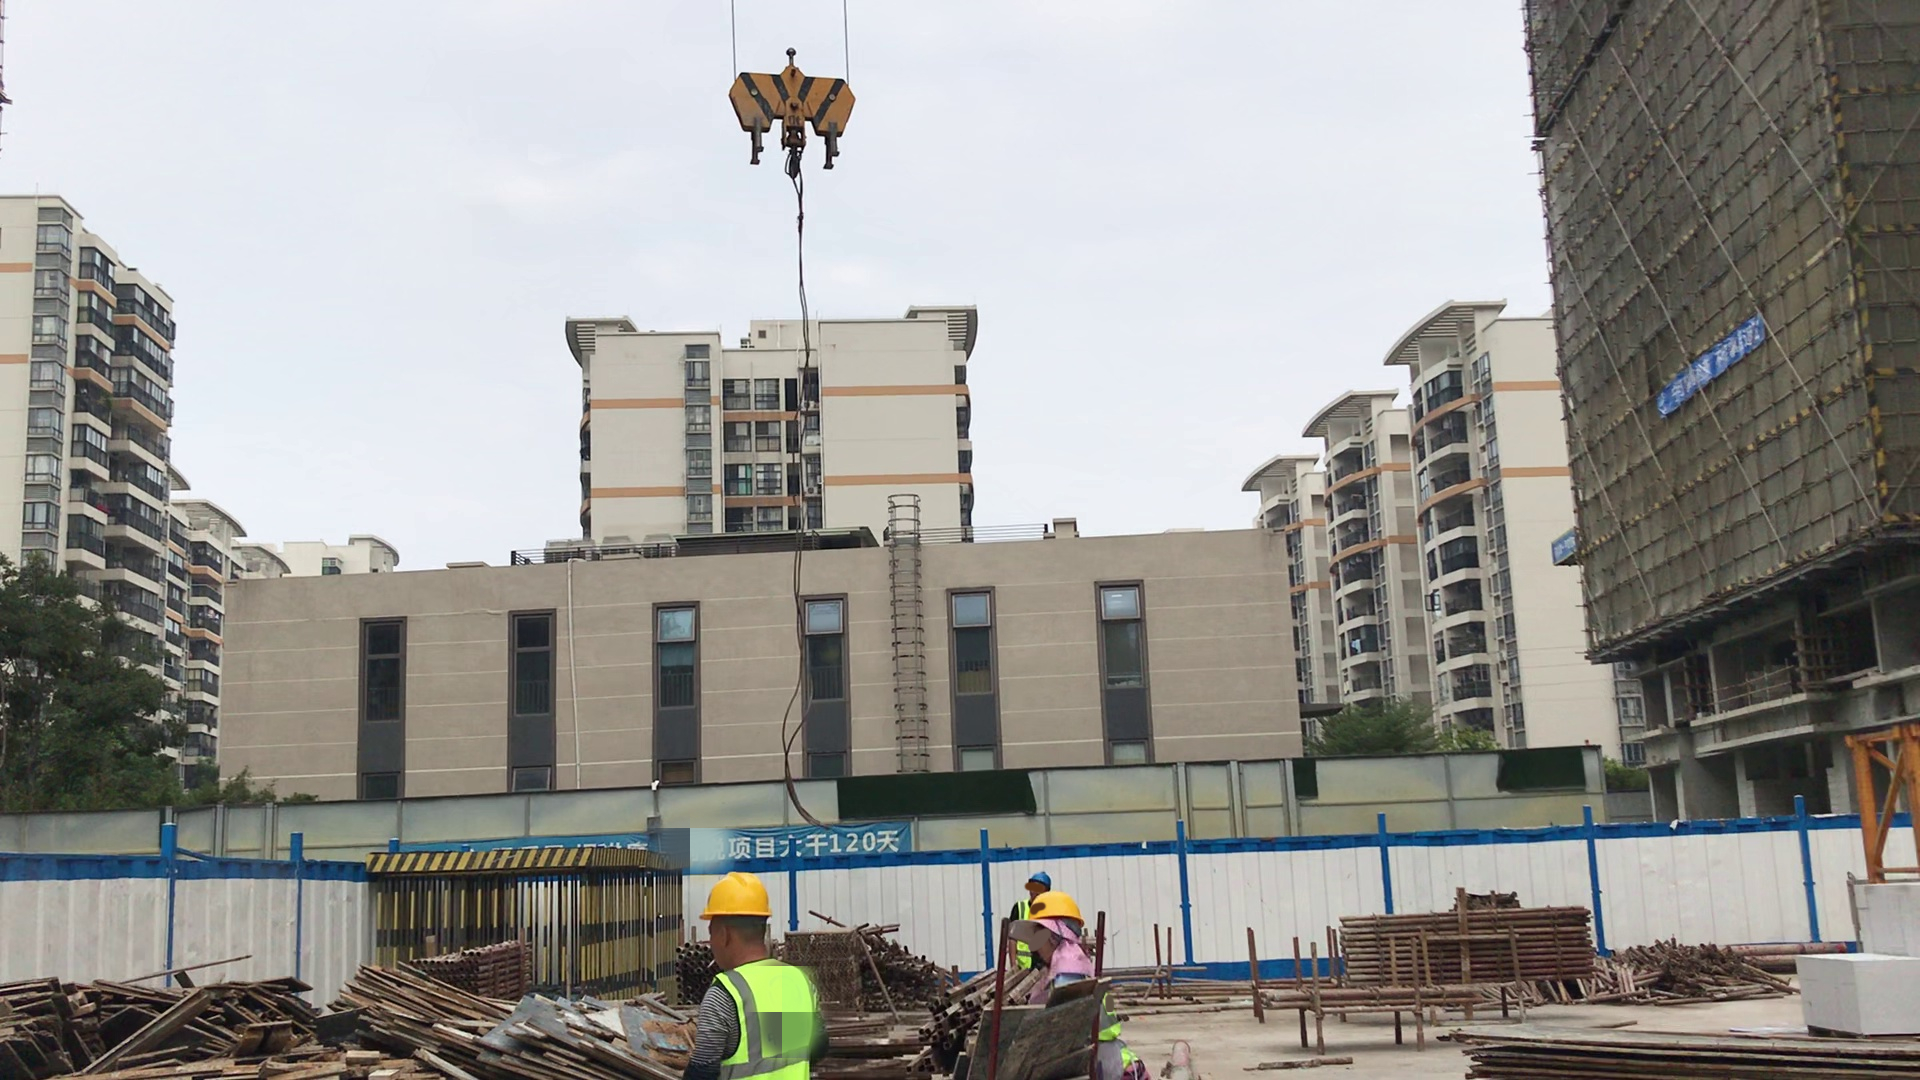brick: (1797, 874, 1920, 1048)
helmet: (699, 871, 786, 937), (1025, 895, 1099, 928), (1023, 863, 1056, 888)
hook: (728, 43, 855, 170)
person: (670, 868, 830, 1080), (1007, 857, 1051, 965)
scaffold: (1345, 914, 1596, 975), (407, 947, 537, 999)
slogan: (640, 806, 902, 855)
vest: (694, 967, 819, 1080)
